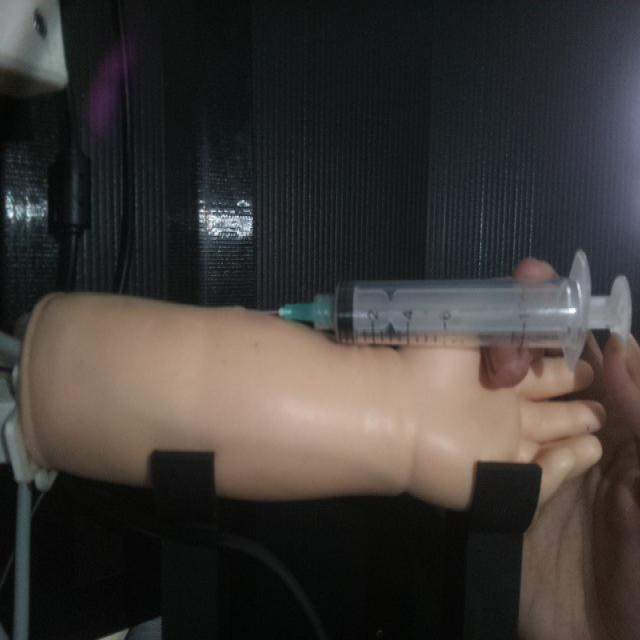Outside: (249, 246, 633, 370)
